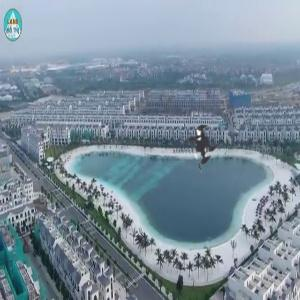drone: (136, 75, 268, 207)
